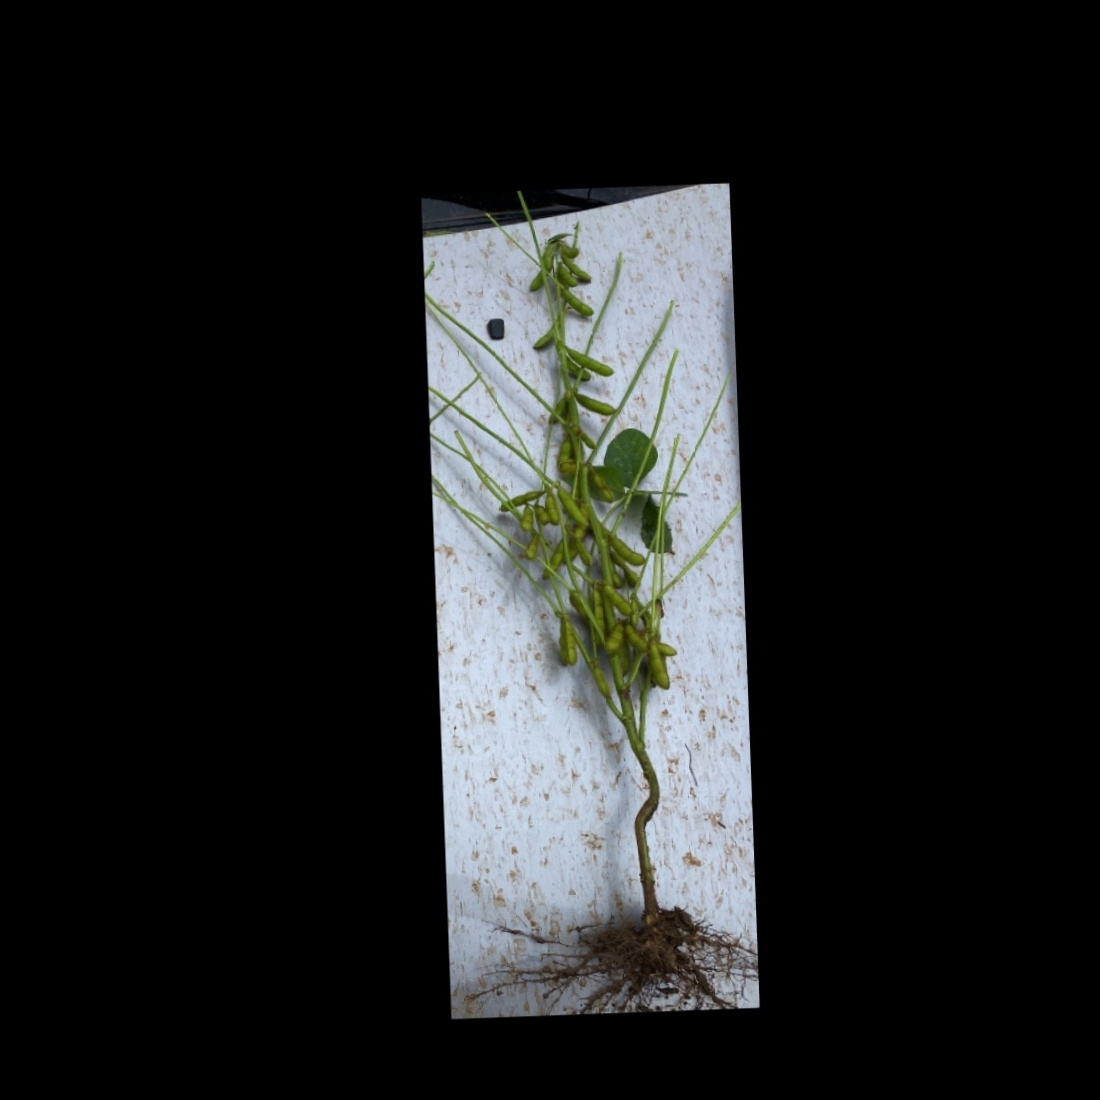pod: (556, 486, 587, 527), (498, 487, 548, 512), (647, 639, 670, 693), (576, 388, 616, 416), (539, 541, 567, 581), (601, 583, 634, 617), (561, 287, 596, 318), (530, 317, 562, 350), (564, 616, 579, 668), (624, 623, 649, 653), (554, 617, 567, 668), (603, 624, 625, 652), (544, 492, 560, 527), (594, 664, 610, 698), (518, 504, 535, 533), (557, 266, 578, 289)
soy: (472, 218, 747, 977)
